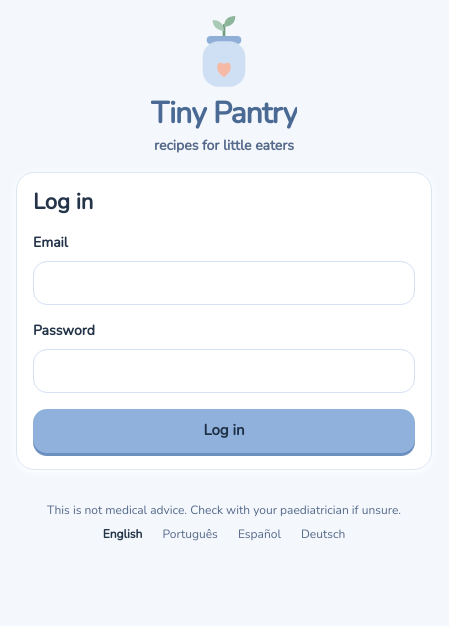
Test: an error already on screen changes language with the page
Type "ana@example.com" into the field labelled "Email".
click(224, 282); type("ana@example.com")  # box x1=33 y1=260 x2=415 y2=304
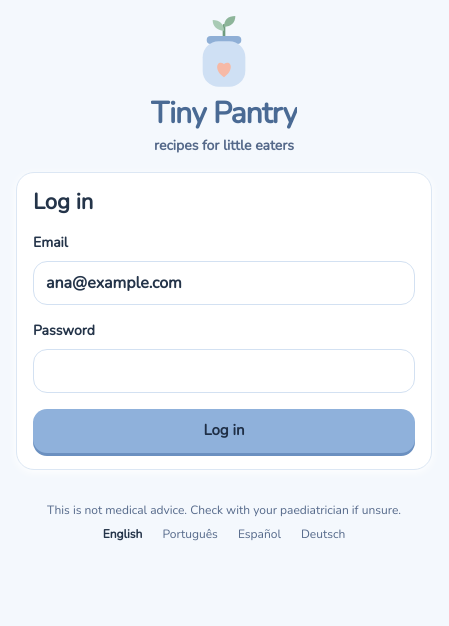
Type "nope" into the password field labelled "Password".
click(224, 370); type("nope")  # box x1=33 y1=348 x2=415 y2=392
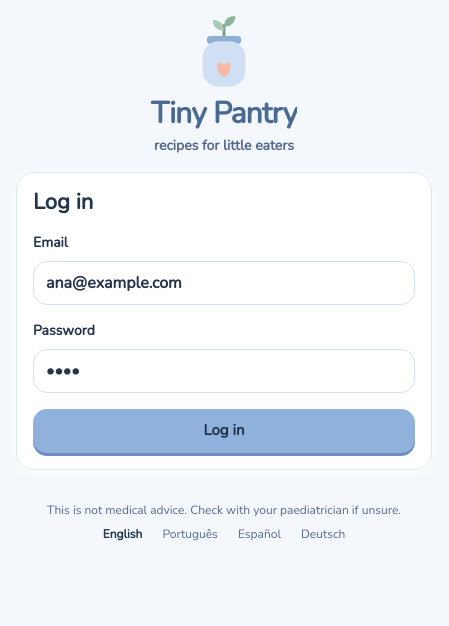
Click the button "Log in".
click(224, 430)  # box x1=33 y1=408 x2=415 y2=452
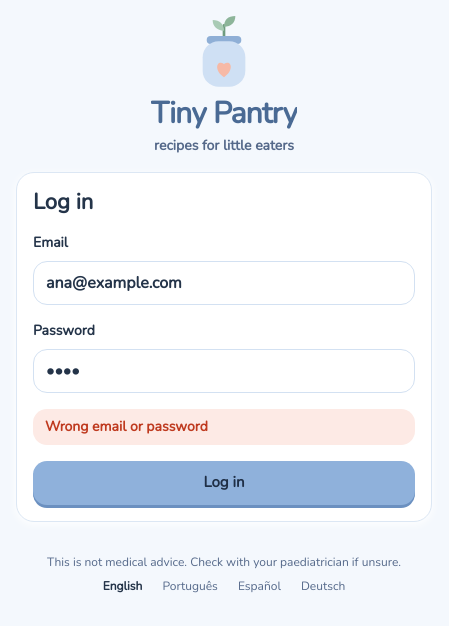
Check: the message reads "Wrong email or password", box x1=45 y1=416 x2=208 y2=436
Click the button "Deutsch".
click(323, 586)  # box x1=297 y1=578 x2=349 y2=594
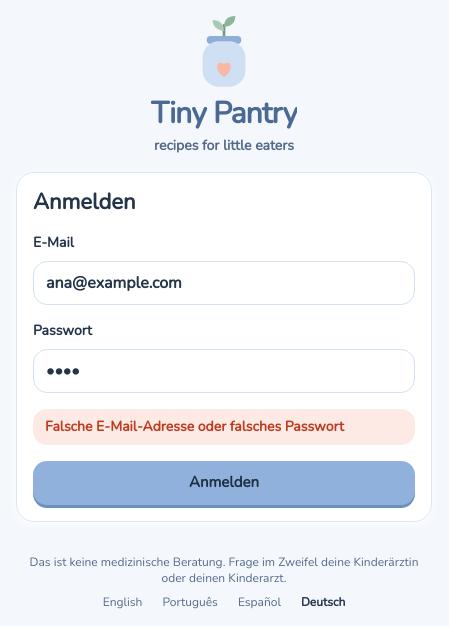
Check: the message reads "Falsche E-Mail-Adresse oder falsches Passwort", box x1=45 y1=416 x2=344 y2=436
